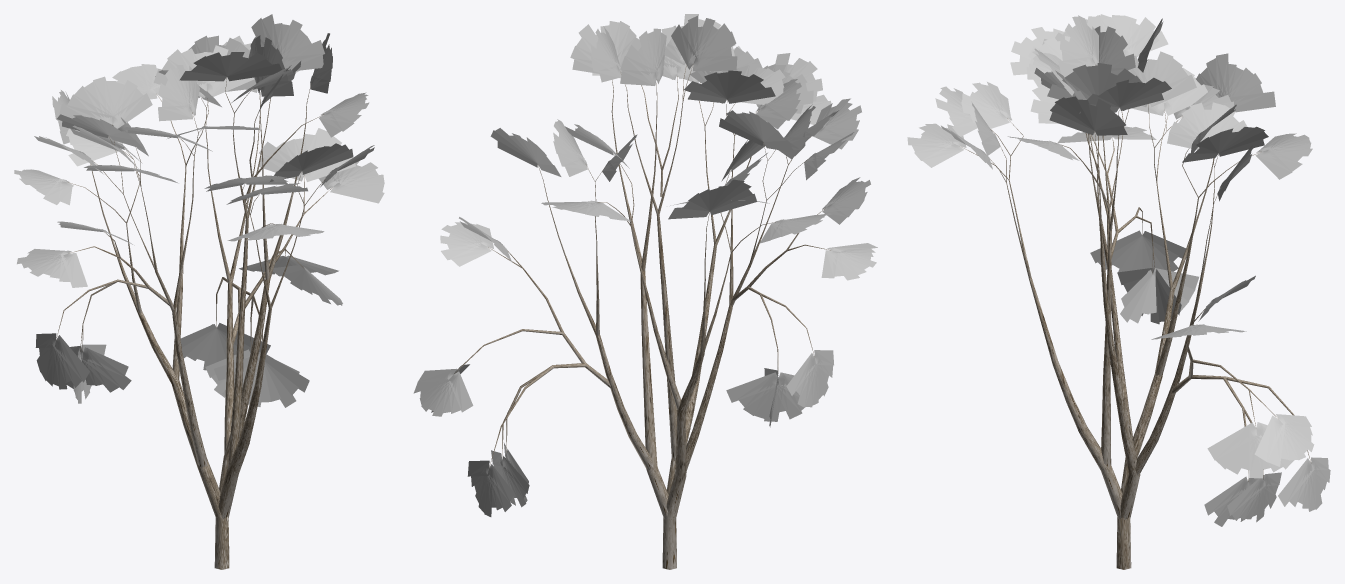
The model's file is DesertTrees.fbx.
3 views of the same model, side by side, from view 1: azimuth 30°, elevation 25°; view 2: azimuth 150°, elevation 25°; view 3: azimuth 270°, elevation 25° (orthographic).
Visible parts, largest first — view 1: DesertTreeLeaves_LOD0, DesertTree_LOD0; view 2: DesertTreeLeaves_LOD0, DesertTree_LOD0; view 3: DesertTreeLeaves_LOD0, DesertTree_LOD0.
Boxes of the visible parts, bbox=[...] form: DesertTreeLeaves_LOD0: bbox=[14, 14, 384, 407]; DesertTree_LOD0: bbox=[56, 77, 332, 569]; DesertTreeLeaves_LOD0: bbox=[413, 14, 877, 516]; DesertTree_LOD0: bbox=[454, 64, 830, 569]; DesertTreeLeaves_LOD0: bbox=[907, 14, 1330, 526]; DesertTree_LOD0: bbox=[961, 64, 1311, 569].
Size of what is drawn, in the model's own units: 5.34 by 7.06 by 5.06.
